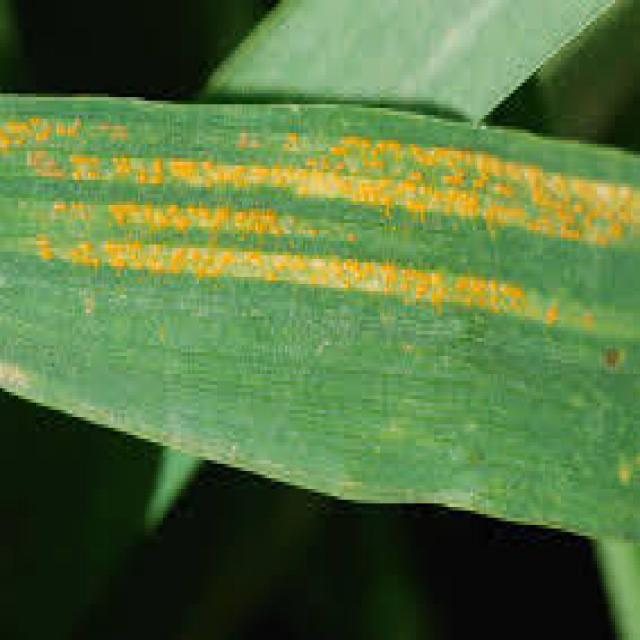wheat-yellowrust: (0, 121, 640, 248), (32, 242, 561, 323), (55, 203, 355, 242)
